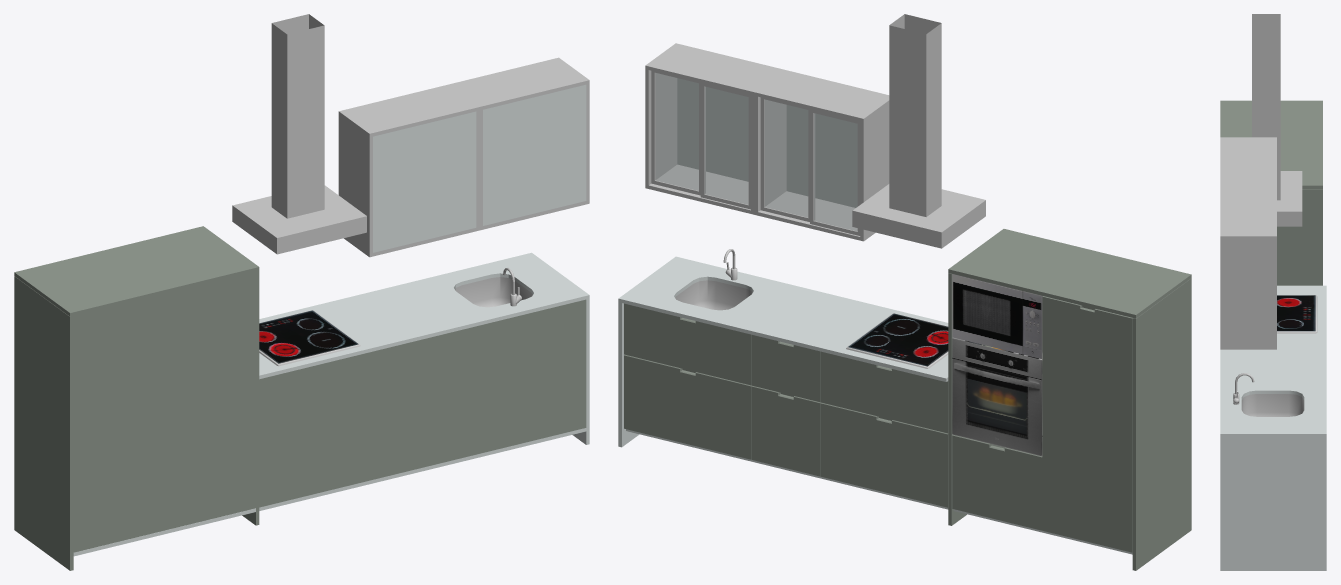
Rendered from Kitchen03.fbx.
3 views of the same model, side by side, from view 1: azimuth 30°, elevation 25°; view 2: azimuth 150°, elevation 25°; view 3: azimuth 270°, elevation 25° (orthographic). The views are drawn at different scales.
Parts seen in each view (by area): view 1: Orange_, Blue_, Metal1, Ceramic_hob; view 2: Orange_, Metal1, Blue_, Crystal_, Oven_, Microwave, Ceramic_hob; view 3: Blue_, Metal1, Orange_, Ceramic_hob.
Part boxes in pixels (x1=…): Orange_: x1=14, y1=226, x2=586, y2=570; Blue_: x1=73, y1=84, x2=589, y2=556; Metal1: x1=232, y1=14, x2=589, y2=366; Ceramic_hob: x1=259, y1=310, x2=358, y2=363; Orange_: x1=624, y1=229, x2=1191, y2=570; Metal1: x1=645, y1=14, x2=985, y2=368; Blue_: x1=618, y1=78, x2=1132, y2=554; Crystal_: x1=655, y1=73, x2=857, y2=230; Oven_: x1=952, y1=337, x2=1042, y2=456; Microwave: x1=952, y1=274, x2=1042, y2=358; Ceramic_hob: x1=848, y1=313, x2=948, y2=366; Blue_: x1=1220, y1=285, x2=1326, y2=570; Metal1: x1=1220, y1=14, x2=1317, y2=416; Orange_: x1=1220, y1=100, x2=1322, y2=285; Ceramic_hob: x1=1277, y1=295, x2=1315, y2=331.
Bounding box in the file's own units: 3.58 × 3.08 × 0.6915.
